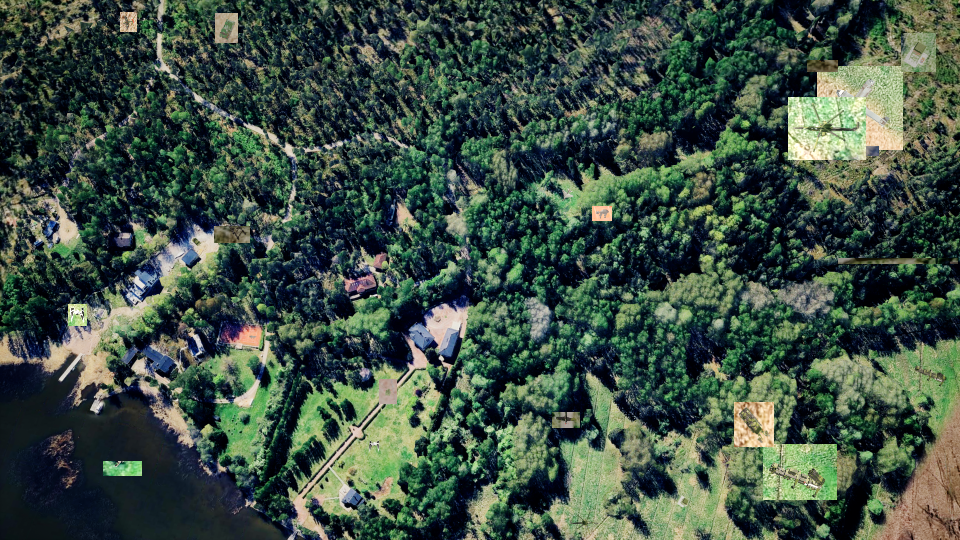condor: (817, 66, 903, 150)
hangar: (838, 258, 958, 264)
helicopter: (788, 97, 866, 160)
jammer: (215, 13, 238, 43)
jet_plane: (103, 461, 142, 476)
large_launcher: (763, 444, 837, 500)
large_tower: (214, 226, 250, 243)
medium_launcher: (807, 60, 838, 72)
medium_plane: (552, 412, 580, 428)
mine_roller: (734, 402, 774, 447)
small_launcher: (379, 379, 397, 404)
small_plane: (120, 12, 137, 32)
small_tower: (901, 33, 936, 72)
spacecraft: (68, 304, 87, 326)
ta-ta: (592, 206, 612, 221)
tank: (845, 146, 879, 156)
